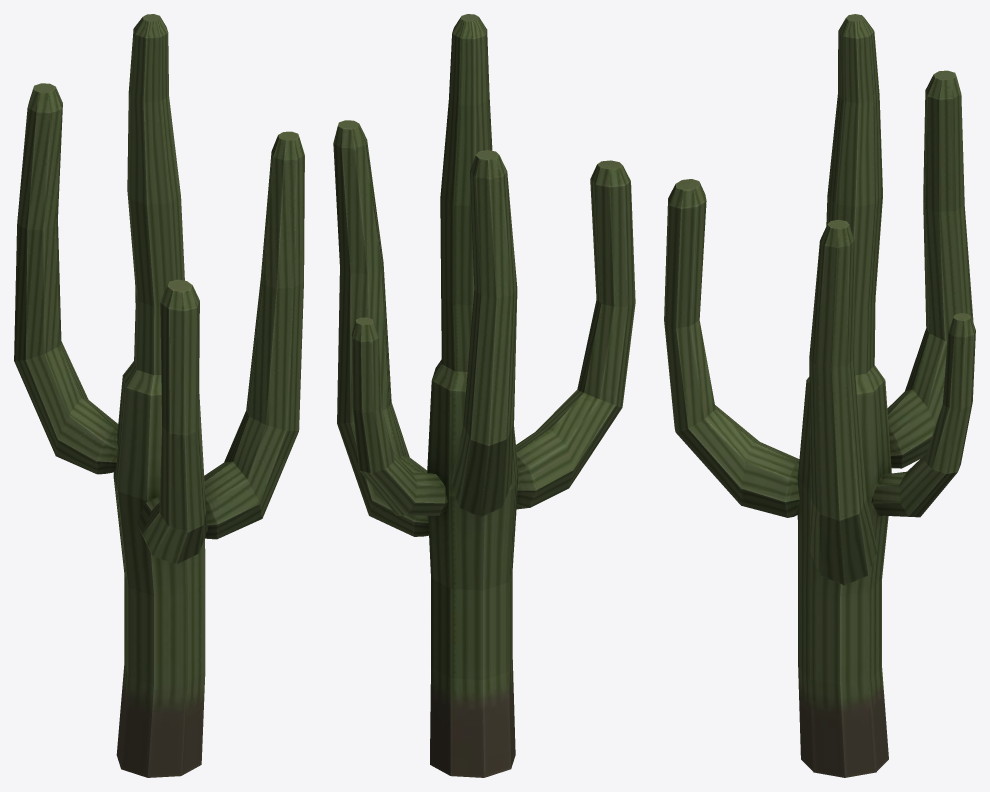
The model's file is 1_3Ur2-LAs8.glb.
The picture shows the model from 3 angles, left to right: view 1: azimuth 30°, elevation 25°; view 2: azimuth 150°, elevation 25°; view 3: azimuth 270°, elevation 25°; orthographic projection.
Visible parts, largest first — view 1: Saguaro_mesh; view 2: Saguaro_mesh; view 3: Saguaro_mesh.
Boxes of the visible parts, bbox=[...] form: Saguaro_mesh: bbox=[14, 14, 304, 777]; Saguaro_mesh: bbox=[333, 14, 635, 777]; Saguaro_mesh: bbox=[664, 14, 975, 777].
Bounding box in the file's own units: 0.3263 × 1 × 0.3819.
Materials: 1 (1 with a texture image).
